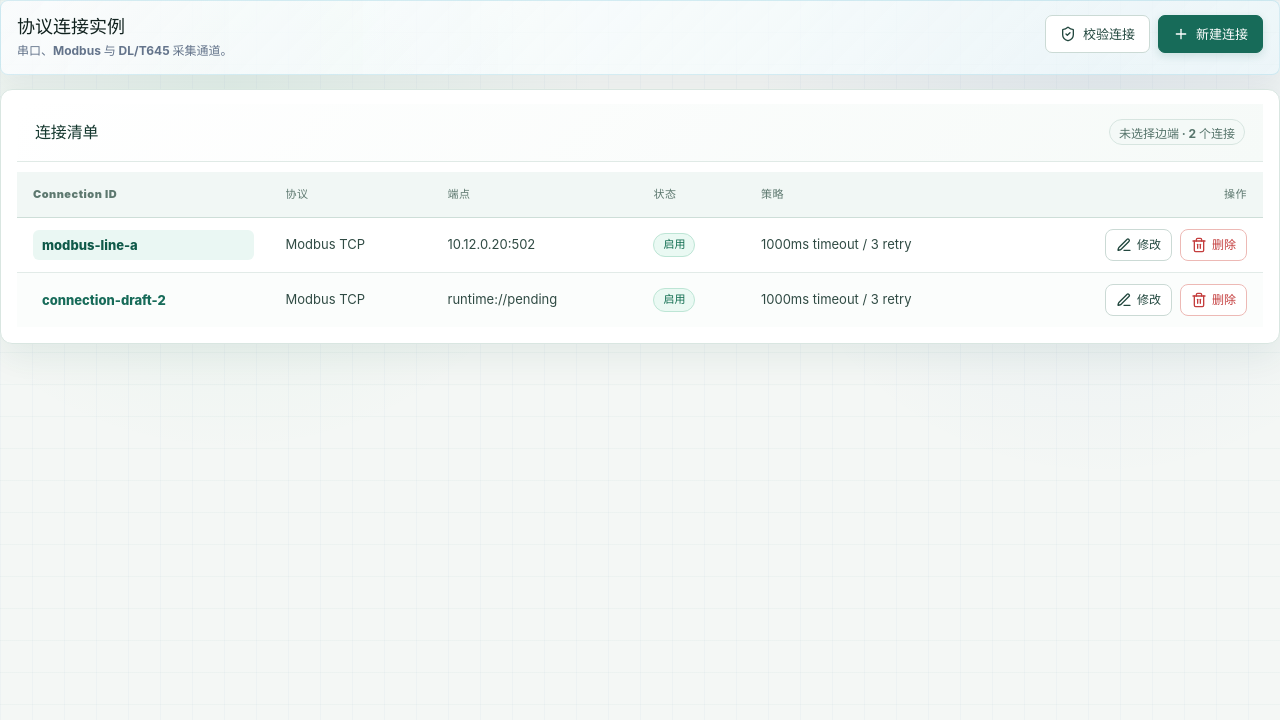
ProtocolConnectionsPage › creates and selects a new protocol connection from dialog fields
Click the button "新建连接" at (1210, 34), box top-left (1158, 15), bottom-right (1263, 53)
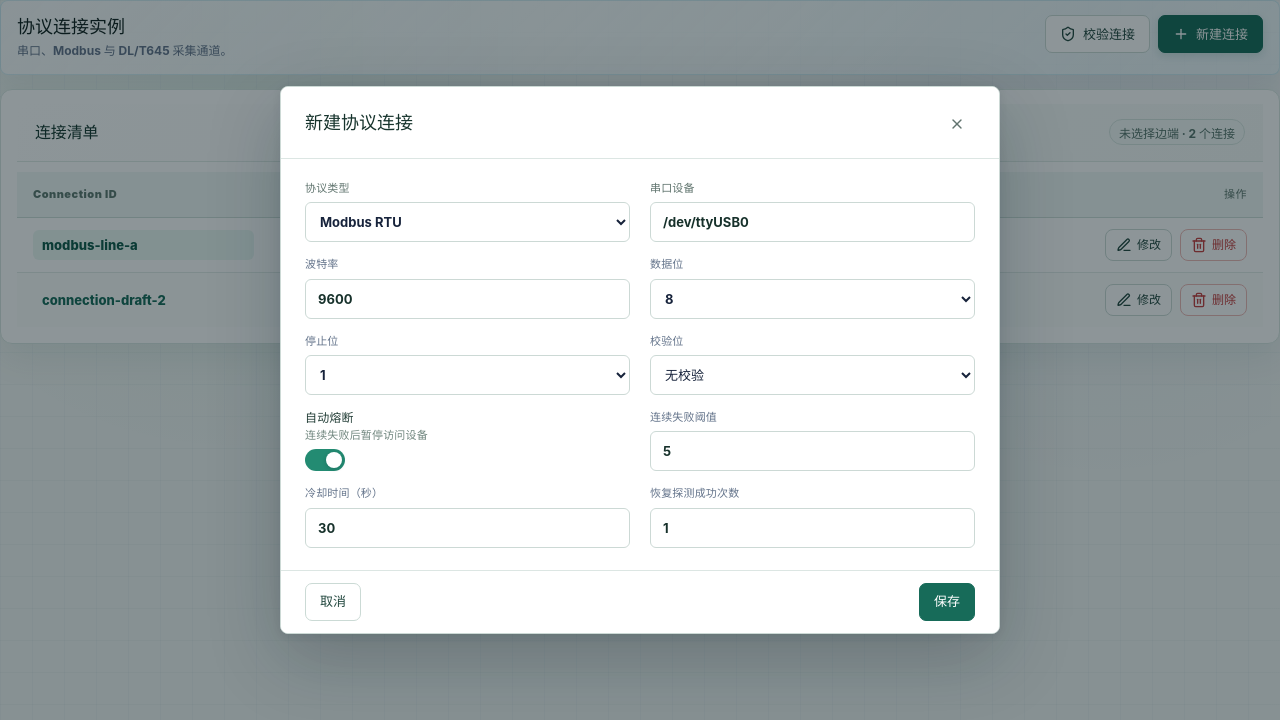
Select "Modbus RTU" in the dropdown named "新建协议类型" at (468, 222), box top-left (305, 202), bottom-right (630, 242)
Replace the text in the field named "新建串口设备" with "/dev/ttyUSB1" at (812, 222), box top-left (650, 202), bottom-right (975, 242)
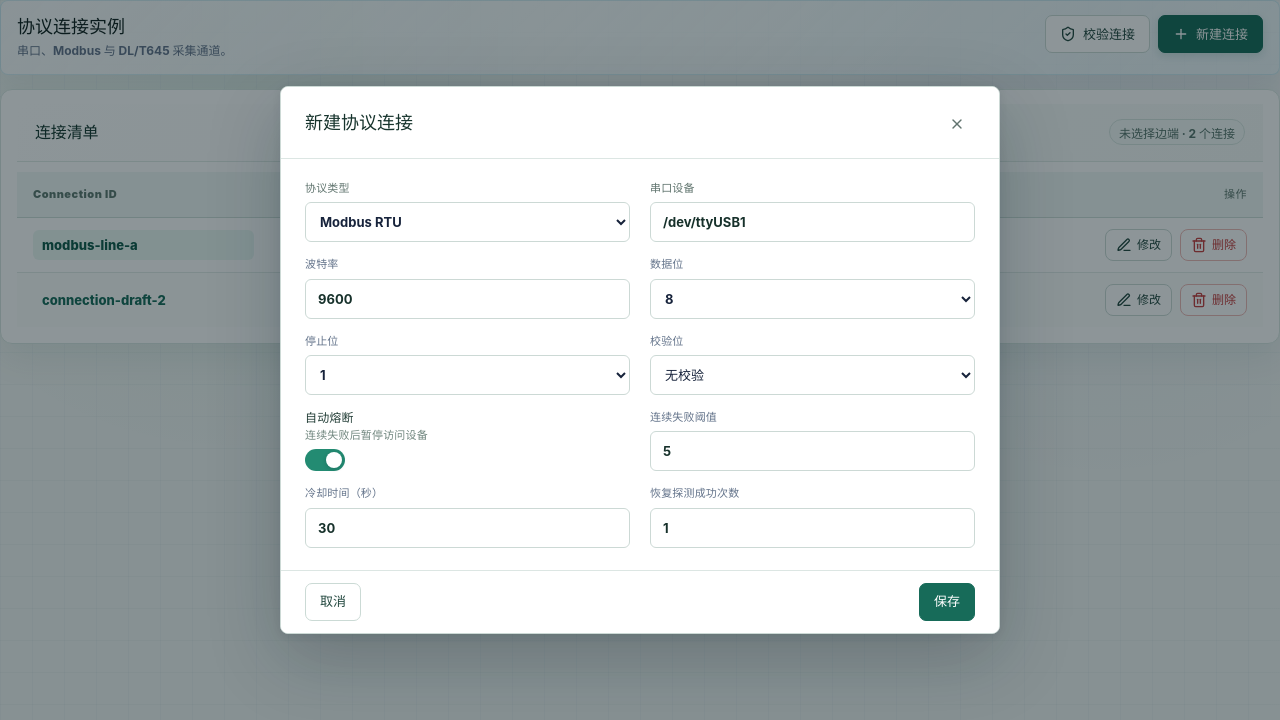
Replace the text in the number field named "新建波特率" with "19200" at (468, 299), box top-left (305, 278), bottom-right (630, 319)
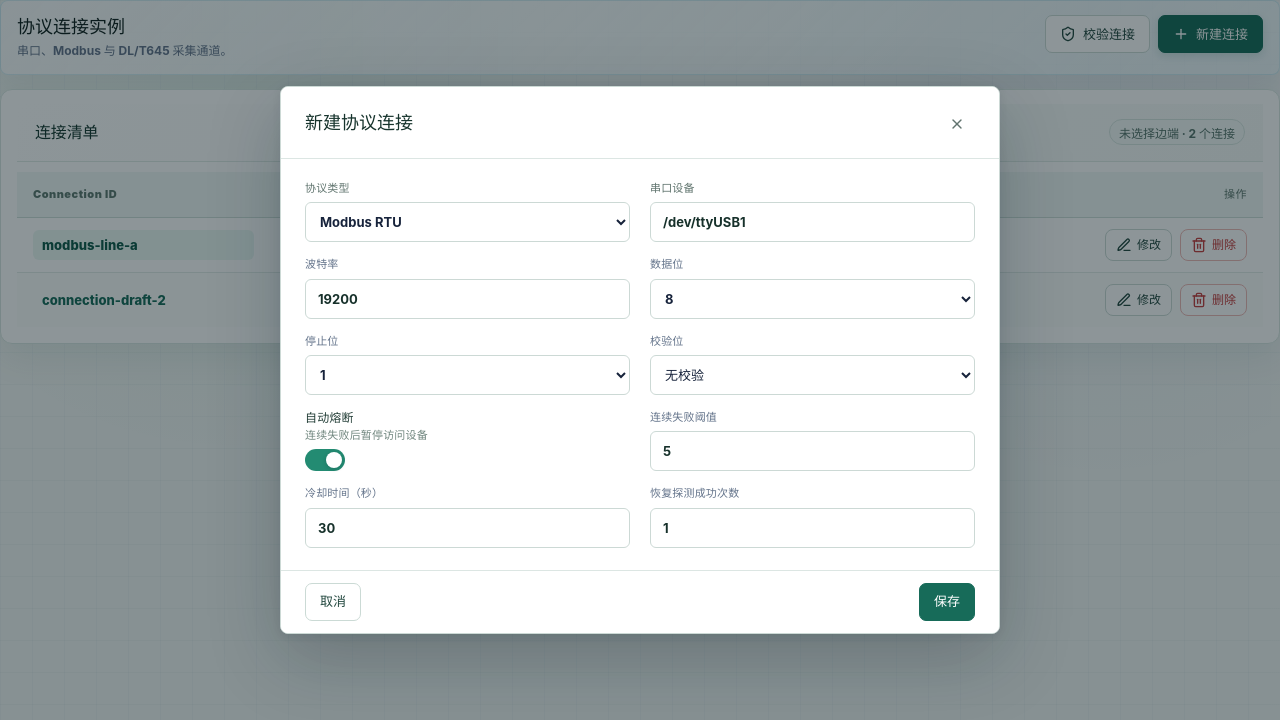
Click the button "保存" at (947, 602), box top-left (919, 583), bottom-right (975, 621)
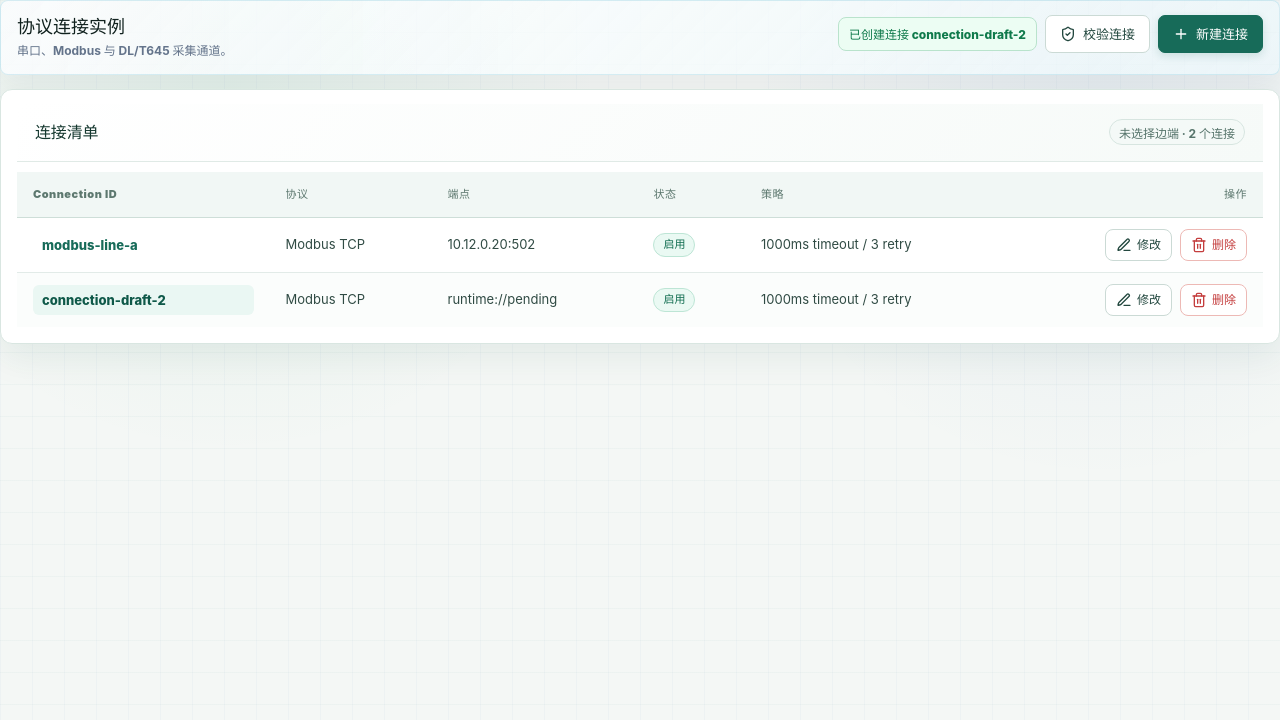
Result: the text "已创建连接 connection-draft-2" is shown at top-left (838, 17), bottom-right (1037, 51)
Click the button with aria-label "编辑连接 connection-draft-2" at (143, 300), box top-left (33, 285), bottom-right (254, 315)
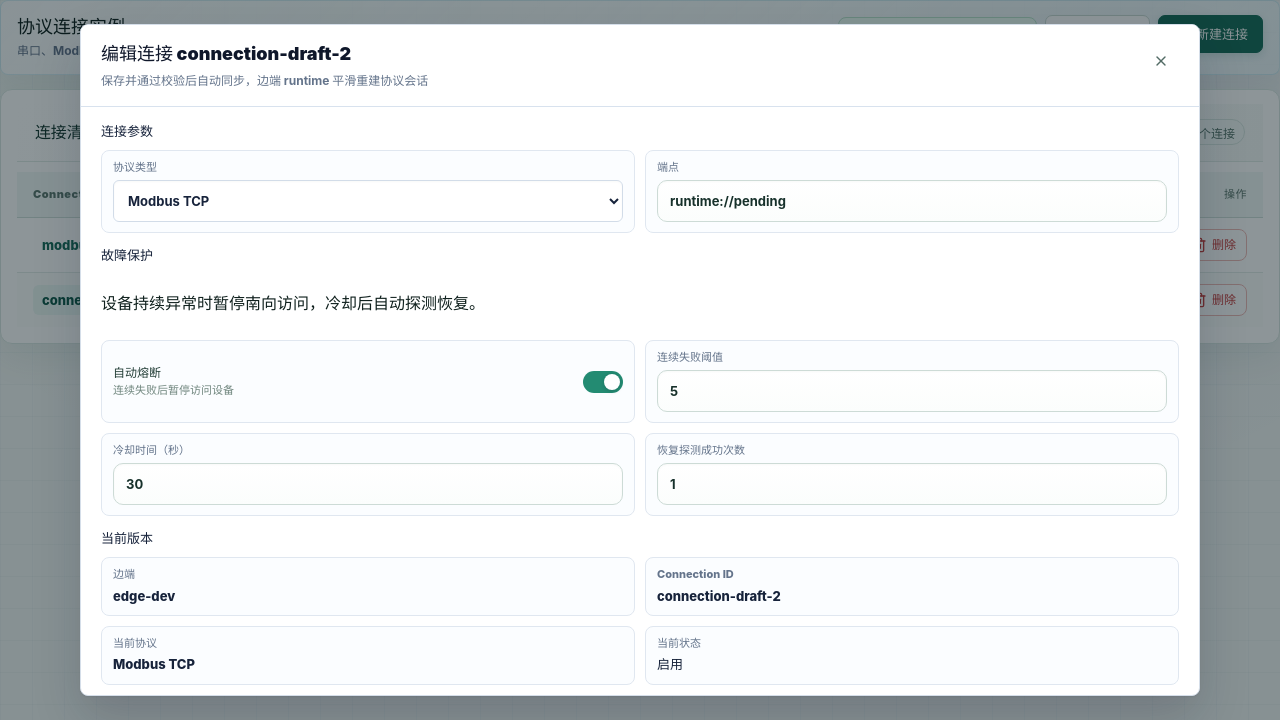
Result: the heading "编辑连接 connection-draft-2" is shown at top-left (101, 43), bottom-right (351, 64)
